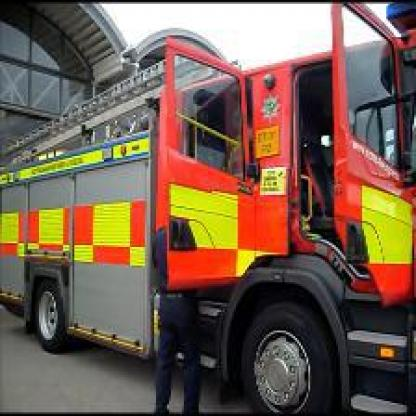other: (147, 156, 274, 278), (0, 188, 145, 268), (336, 147, 412, 299)
